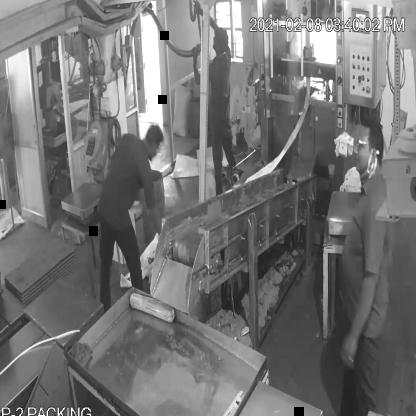no_glove: (332, 260, 382, 379)
